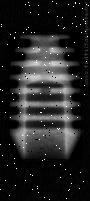Novodent: (5, 30, 83, 161)
